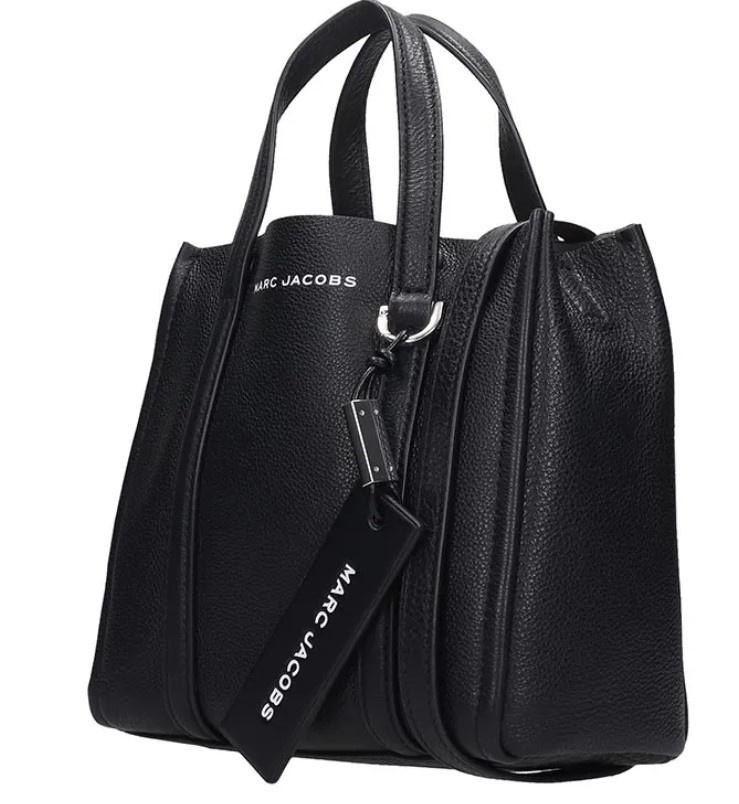MARC-JACOBS: (262, 563, 356, 721), (253, 274, 356, 292)
